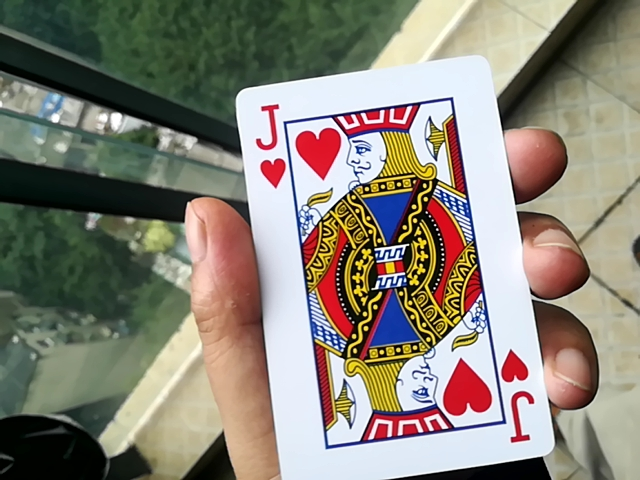hx j: (228, 62, 557, 479)
